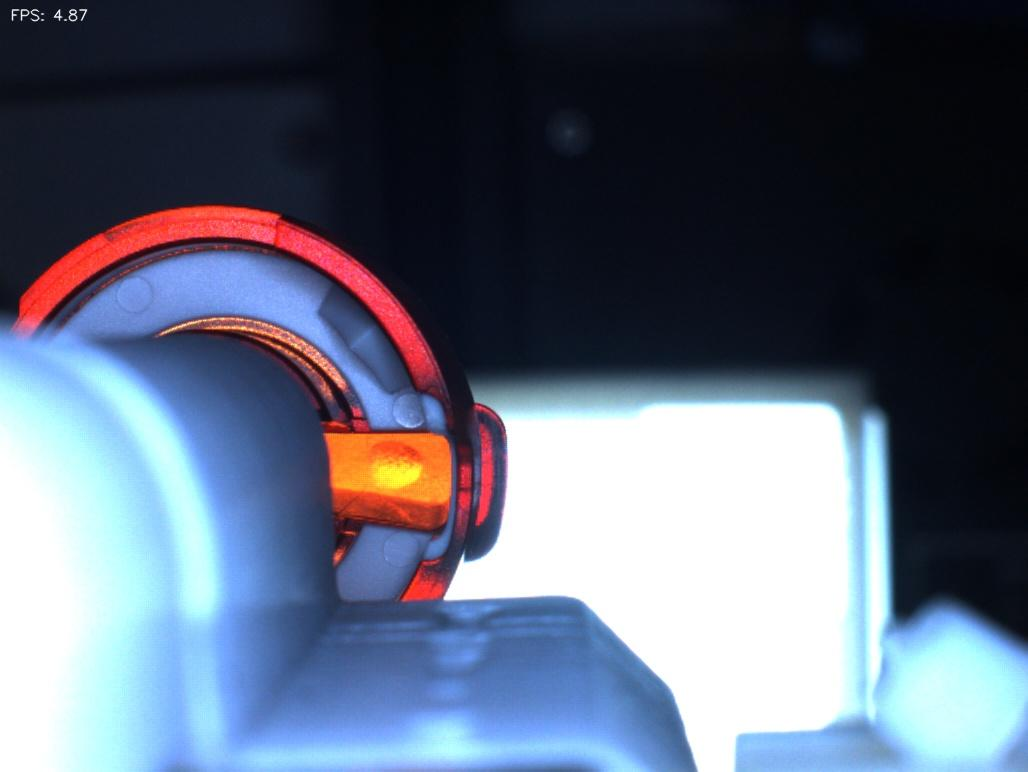Retassure: (345, 436, 439, 504)
